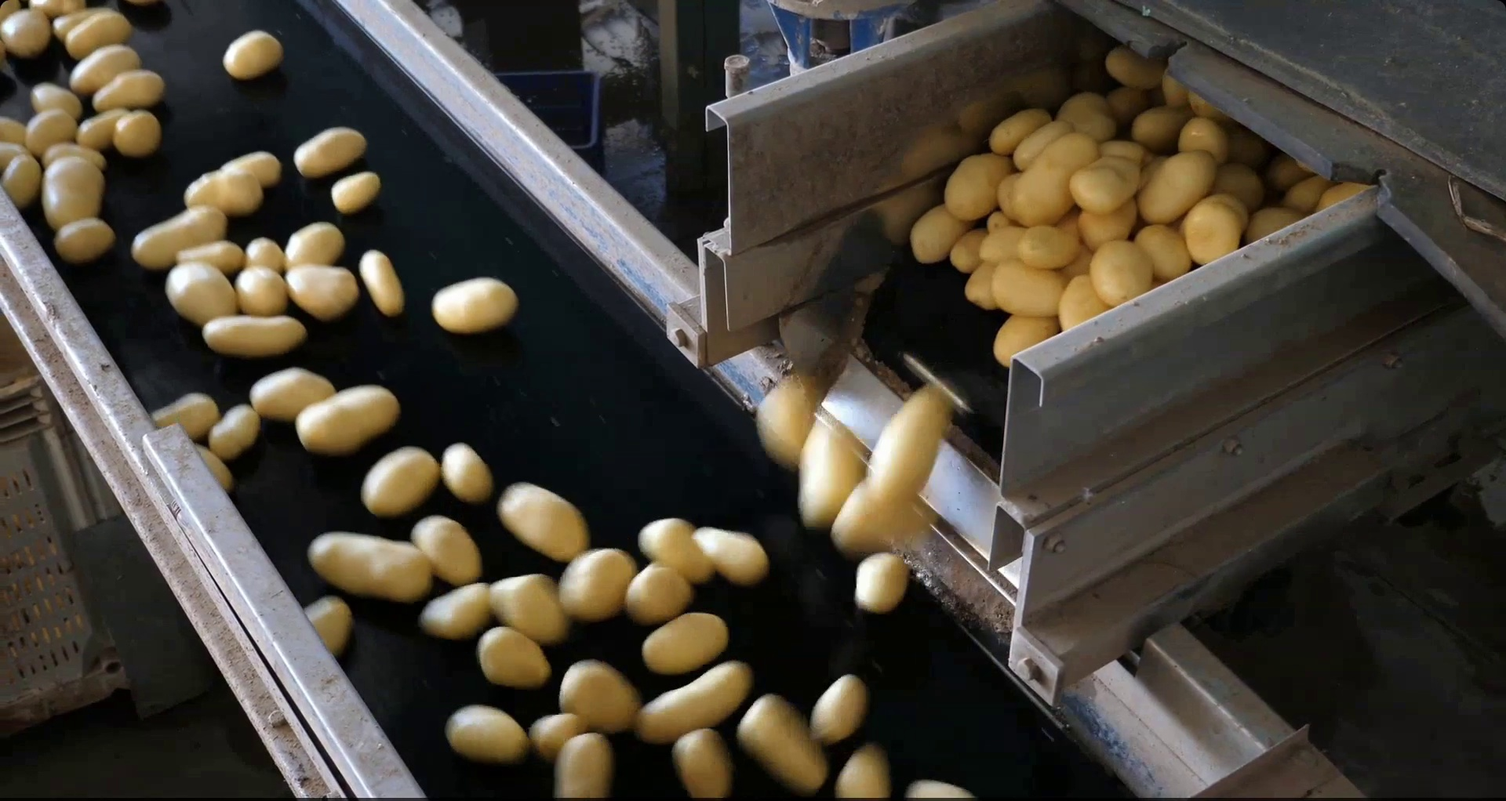potato: (867, 375, 956, 515), (303, 526, 437, 611), (629, 658, 759, 745), (733, 688, 833, 794), (822, 469, 940, 558), (795, 400, 866, 533), (290, 379, 406, 458), (492, 480, 595, 567), (1008, 130, 1099, 228), (123, 201, 232, 276), (1136, 147, 1228, 234), (556, 537, 642, 629), (751, 368, 824, 475), (552, 654, 643, 737), (438, 696, 533, 770), (354, 443, 443, 521), (638, 604, 733, 676), (1067, 137, 1151, 217), (427, 274, 524, 341), (485, 572, 570, 647), (195, 310, 312, 361), (246, 366, 345, 426), (409, 511, 490, 584), (940, 145, 1018, 220), (806, 668, 877, 750), (635, 515, 716, 586), (1181, 188, 1250, 269), (472, 624, 551, 694), (414, 577, 496, 644), (690, 524, 772, 589), (163, 259, 241, 327), (39, 152, 107, 230), (549, 729, 622, 801), (57, 5, 143, 66), (904, 201, 980, 270), (669, 724, 737, 801), (280, 261, 361, 325), (290, 121, 374, 181), (62, 41, 149, 98), (620, 560, 693, 627), (1090, 237, 1155, 312), (991, 306, 1065, 371), (180, 165, 267, 220), (991, 254, 1065, 317), (853, 548, 912, 623), (1074, 193, 1148, 252), (828, 738, 895, 801), (298, 589, 355, 663), (982, 103, 1057, 158), (1057, 269, 1115, 339), (439, 439, 496, 510), (282, 216, 349, 276), (206, 398, 265, 466), (220, 23, 287, 82), (355, 247, 409, 320), (88, 70, 180, 112), (48, 212, 121, 264), (1008, 118, 1077, 173), (1132, 219, 1191, 283), (324, 165, 395, 217), (1174, 104, 1229, 169), (150, 389, 220, 440), (526, 705, 585, 764), (71, 106, 150, 150), (230, 263, 290, 320), (1054, 86, 1115, 142), (216, 143, 289, 189), (1102, 38, 1167, 88), (1124, 101, 1191, 148), (2, 5, 58, 61), (20, 105, 82, 154), (1016, 223, 1080, 269), (1213, 154, 1264, 208), (107, 106, 162, 156), (1, 151, 43, 216), (170, 239, 246, 274), (1243, 202, 1299, 248), (1314, 177, 1380, 215), (25, 81, 89, 119), (977, 223, 1032, 267), (946, 222, 993, 273), (40, 138, 114, 169), (962, 258, 1002, 315), (193, 441, 233, 497), (44, 9, 111, 42), (1282, 169, 1332, 212), (900, 775, 982, 801), (1104, 78, 1149, 124), (241, 234, 288, 276), (1183, 85, 1228, 127), (1262, 150, 1304, 191), (993, 169, 1024, 224), (1226, 119, 1265, 161), (1, 140, 39, 180), (1057, 241, 1094, 281), (2, 106, 29, 154), (1160, 66, 1186, 114), (978, 207, 1011, 235), (21, 2, 88, 13), (1057, 208, 1080, 235)
